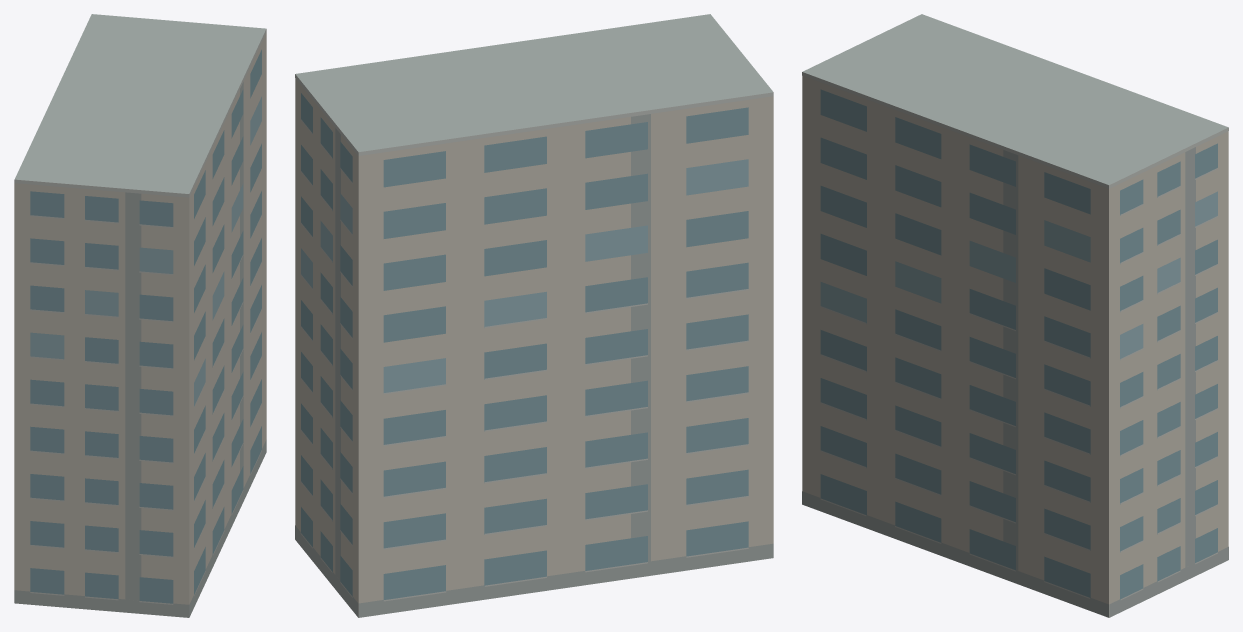
The model's file is residential-d7c6e615-1c43-4e55-9efc-762f6eee78ef.glb.
3 renders of one model, left to right at view 1: azimuth 30°, elevation 25°; view 2: azimuth 150°, elevation 25°; view 3: azimuth 270°, elevation 25°, orthographic. The views are drawn at different scales.
Parts seen in each view (by area): view 1: residential-d7c6e615-1c43-4e55-9efc-762f6eee78ef.tmp; view 2: residential-d7c6e615-1c43-4e55-9efc-762f6eee78ef.tmp; view 3: residential-d7c6e615-1c43-4e55-9efc-762f6eee78ef.tmp.
Part boxes in pixels (box(x1,y1,x2,y2)): residential-d7c6e615-1c43-4e55-9efc-762f6eee78ef.tmp: box(14, 14, 266, 617); residential-d7c6e615-1c43-4e55-9efc-762f6eee78ef.tmp: box(295, 14, 773, 617); residential-d7c6e615-1c43-4e55-9efc-762f6eee78ef.tmp: box(802, 14, 1228, 617).
Bounding box in the file's own units: 24.63 × 29 × 25.92.
